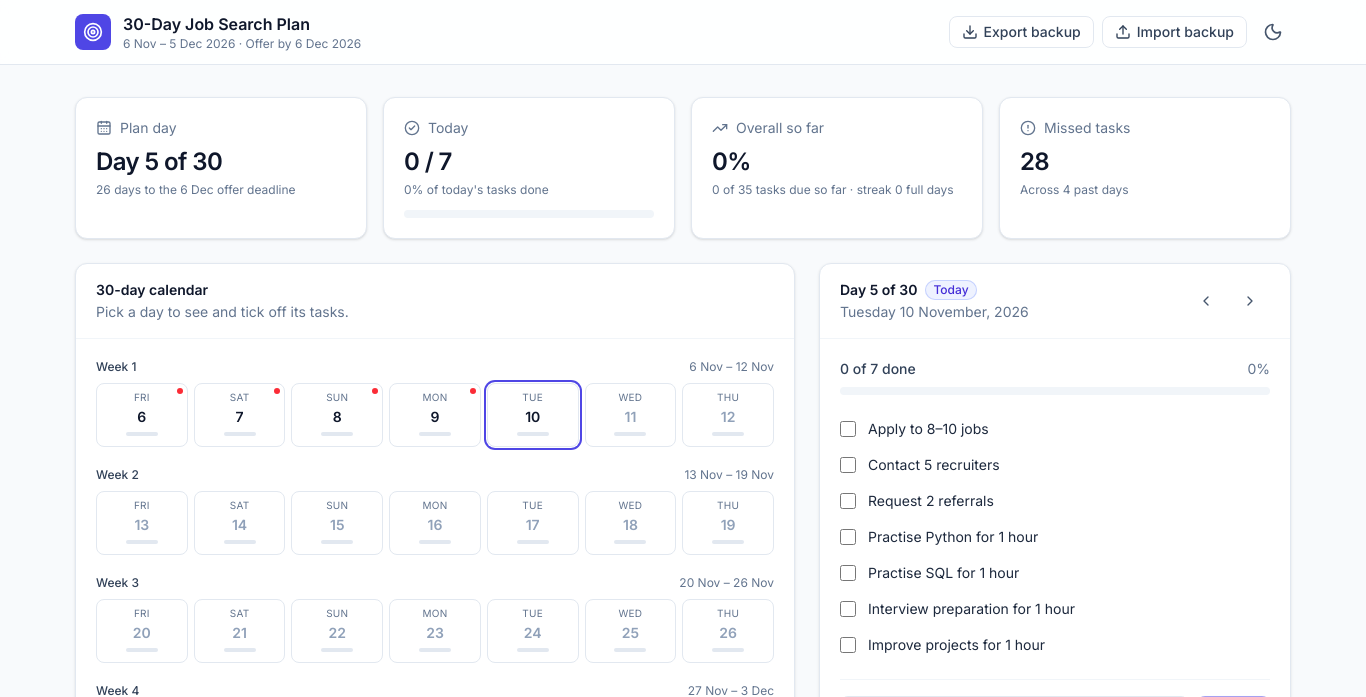
Test: Planner app › ticks a task, updates progress and saves it
The image size is (1366, 697).
Expected: the heading "Day 5 of 30" is shown, x1=840 y1=280 x2=918 y2=300
Click the checkbox labelled "Practise SQL for 1 hour" at (848, 573), box x1=840 y1=565 x2=856 y2=581
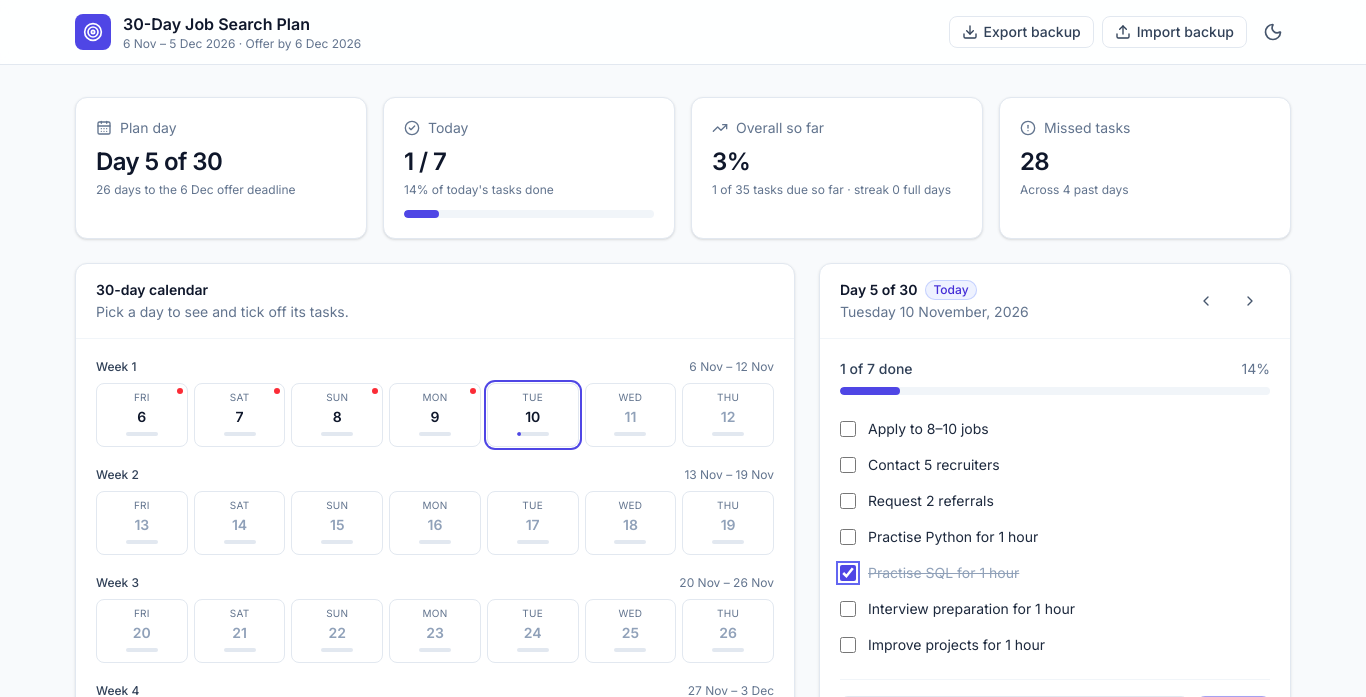
Expected: the checkbox labelled "Practise SQL for 1 hour" is checked, x1=840 y1=565 x2=856 y2=581
Expected: the text "1 of 7 done" is shown, x1=840 y1=359 x2=912 y2=379
